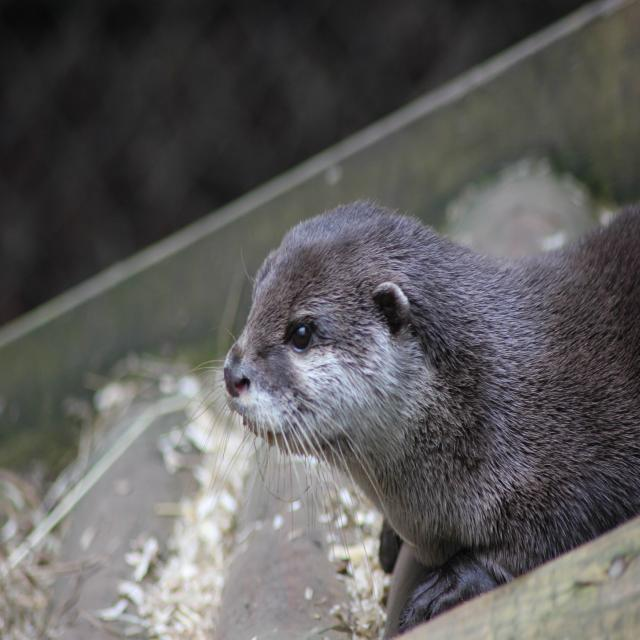otter: (226, 202, 640, 633)
